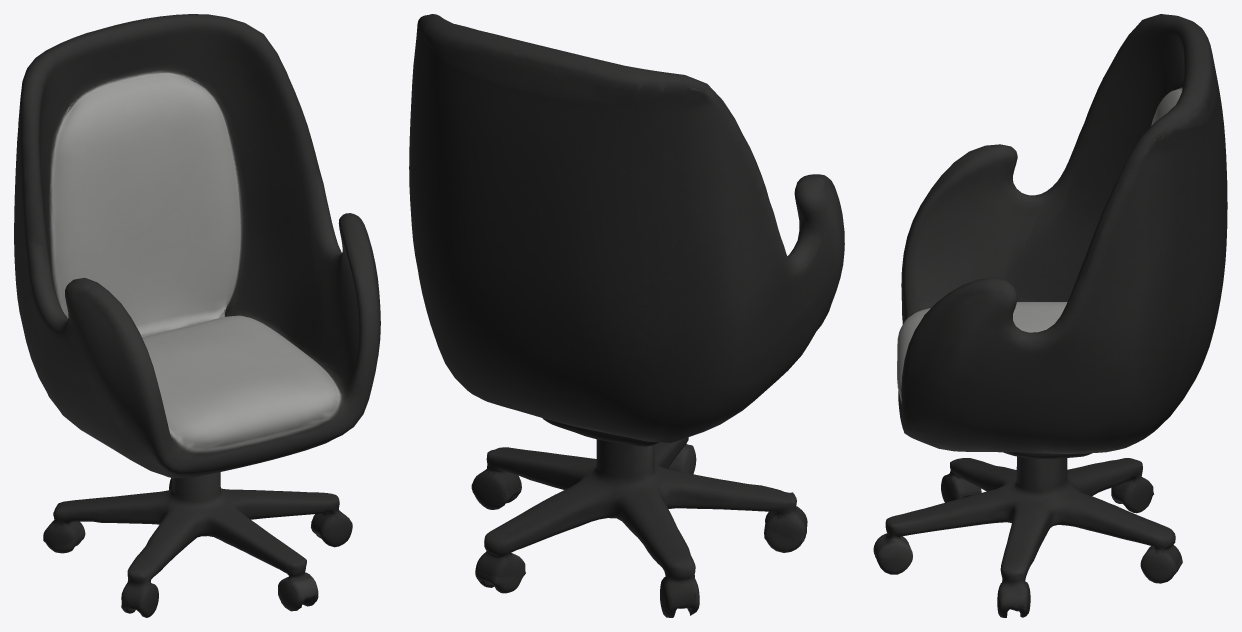
File: Ergonomic_Swivel_OfficeChair.glb
The picture shows the model from 3 angles, left to right: view 1: azimuth 30°, elevation 25°; view 2: azimuth 150°, elevation 25°; view 3: azimuth 270°, elevation 25°; orthographic projection. The views are drawn at different scales.
Bounding box in the file's own units: 1.23 × 1.91 × 1.23.
1 material, 1 textured.
